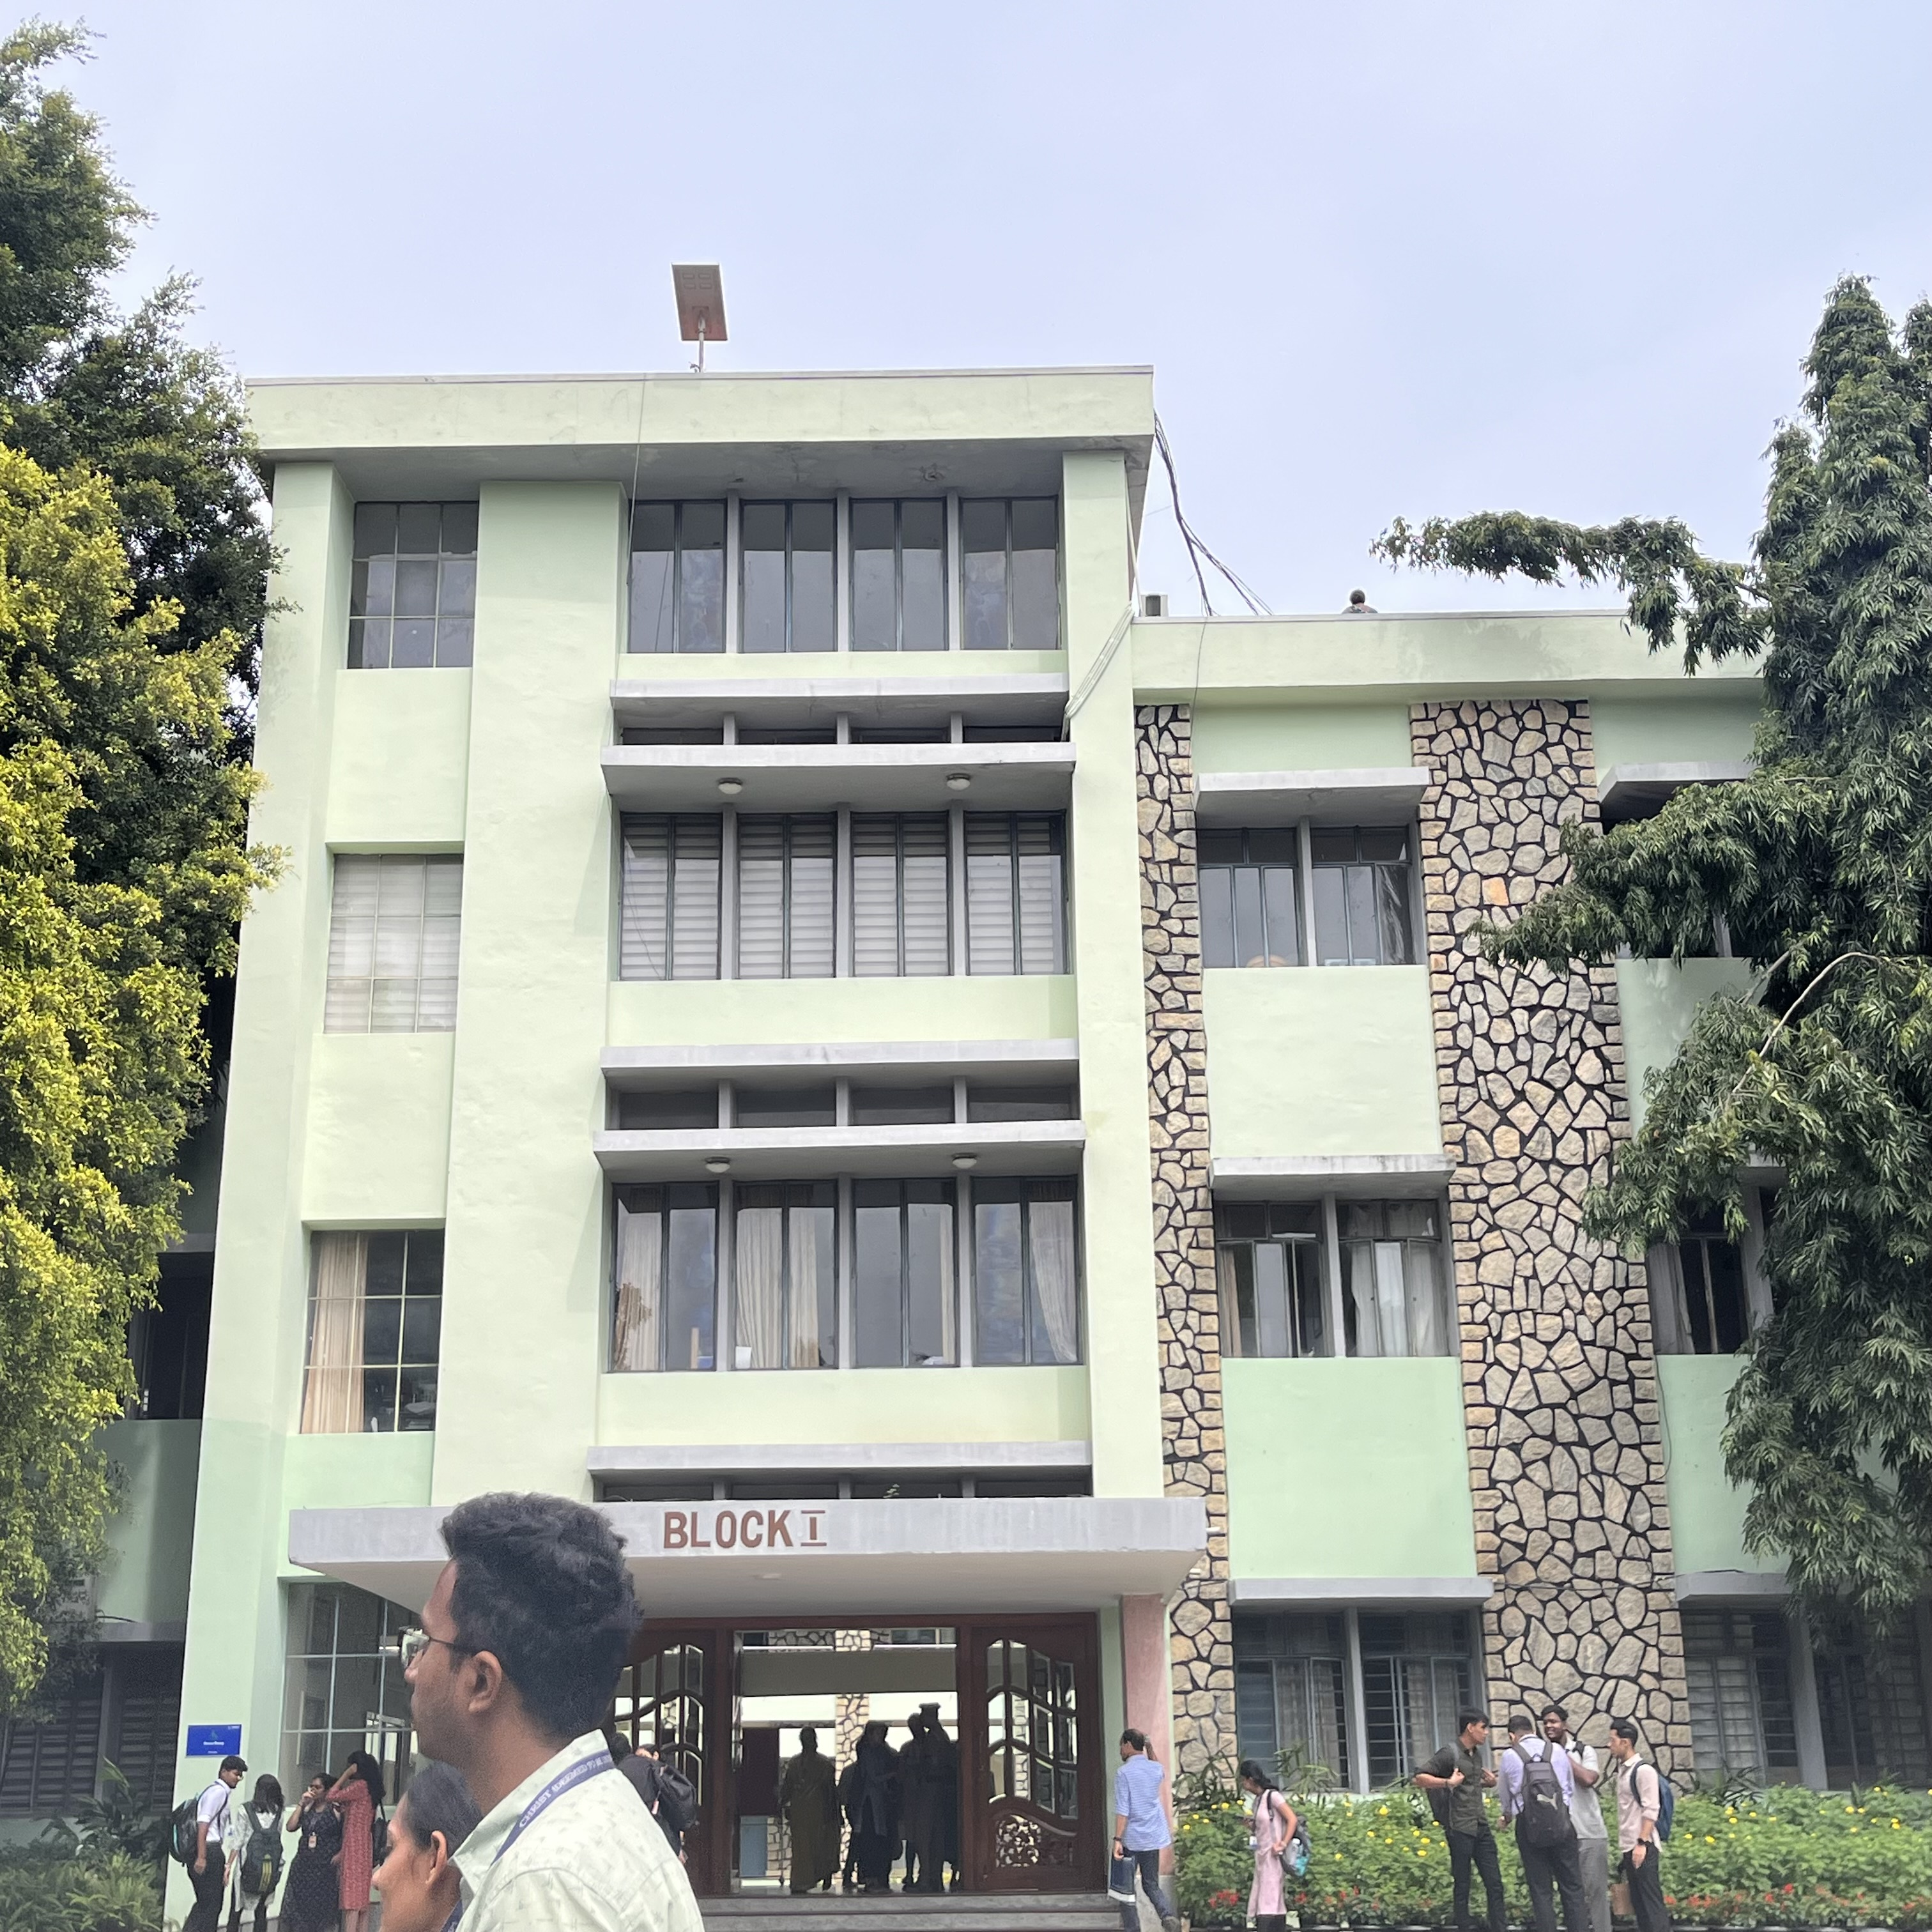Block 1: (234, 368, 1773, 1776)
